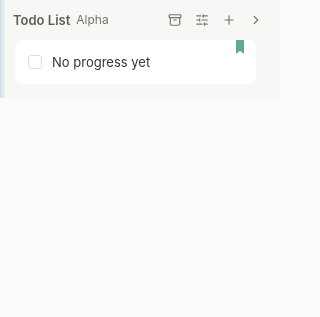
Scenario: TodoRail › locks the draft for manual verification when the Todo creation result is unknown
Step 1. Click the button named "新增代办" → (229,20), box [217, 8, 242, 32]
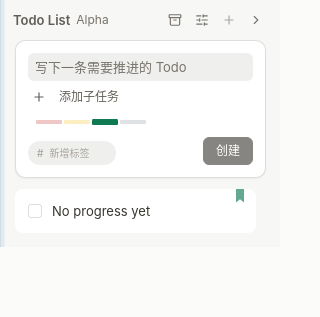
Step 2. Type "保留 [ [todo:99|引用]]" into the text box with placeholder "写下一条需要推进的 Todo" → (140,67), box [28, 53, 253, 81]
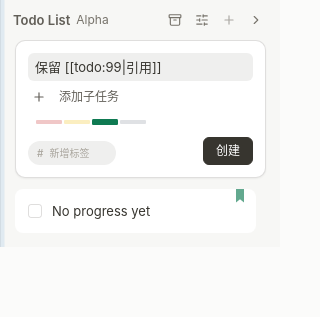
Step 3. Click the button "创建" → (228,151), box [203, 137, 253, 165]
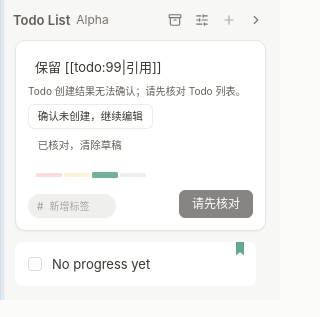
Now the button "请先核对" is disabled, box [179, 190, 253, 218]
Now the message shows "Todo 创建结果无法确认", box [28, 85, 246, 97]
Step 4. Press Escape
Now the element with test id "todo-composer-card" is shown, box [15, 40, 266, 231]
Step 5. Click the button "确认未创建，继续编辑" → (90,116), box [28, 104, 152, 129]
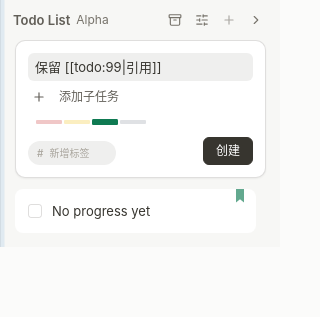
Expected: the text box with placeholder "写下一条需要推进的 Todo" is enabled, [28, 53, 253, 81]
Now the button "创建" is enabled, box [203, 137, 253, 165]
